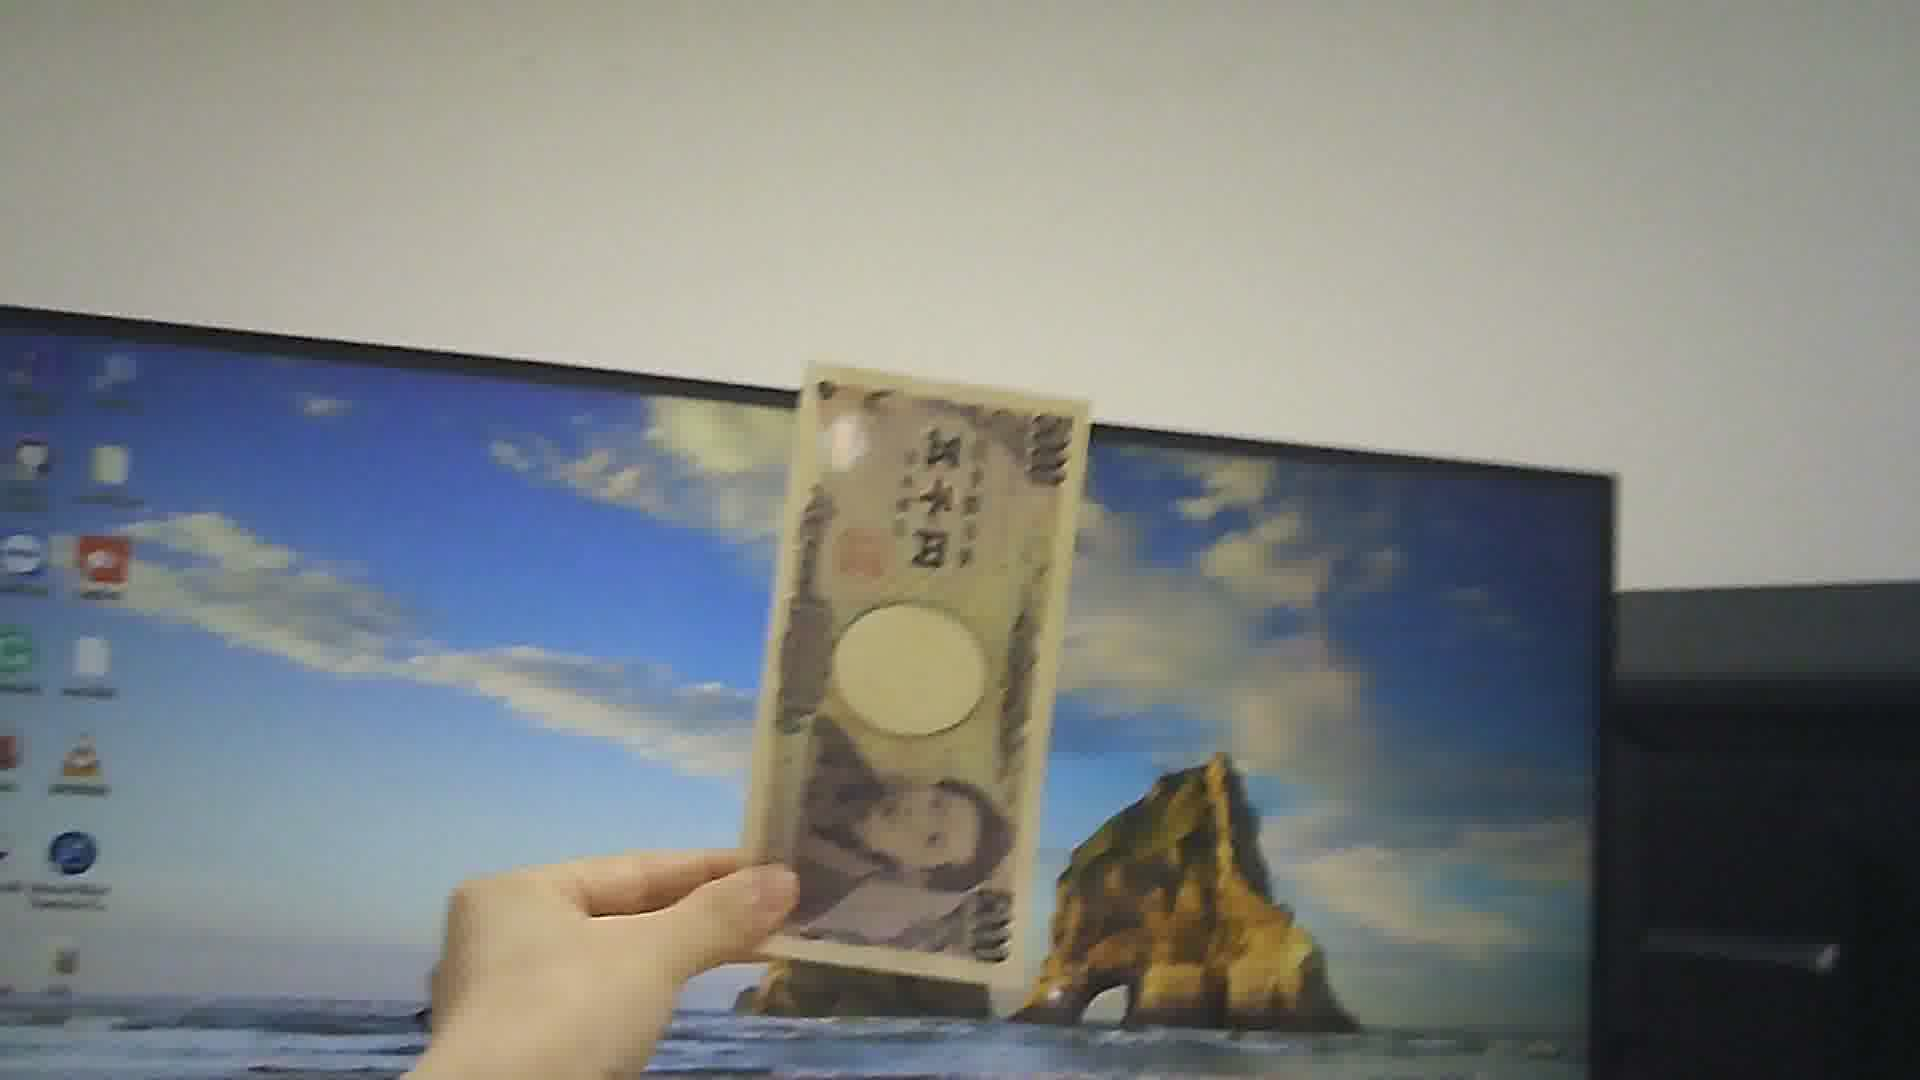5,000 Yen: (756, 353, 1120, 1029)
